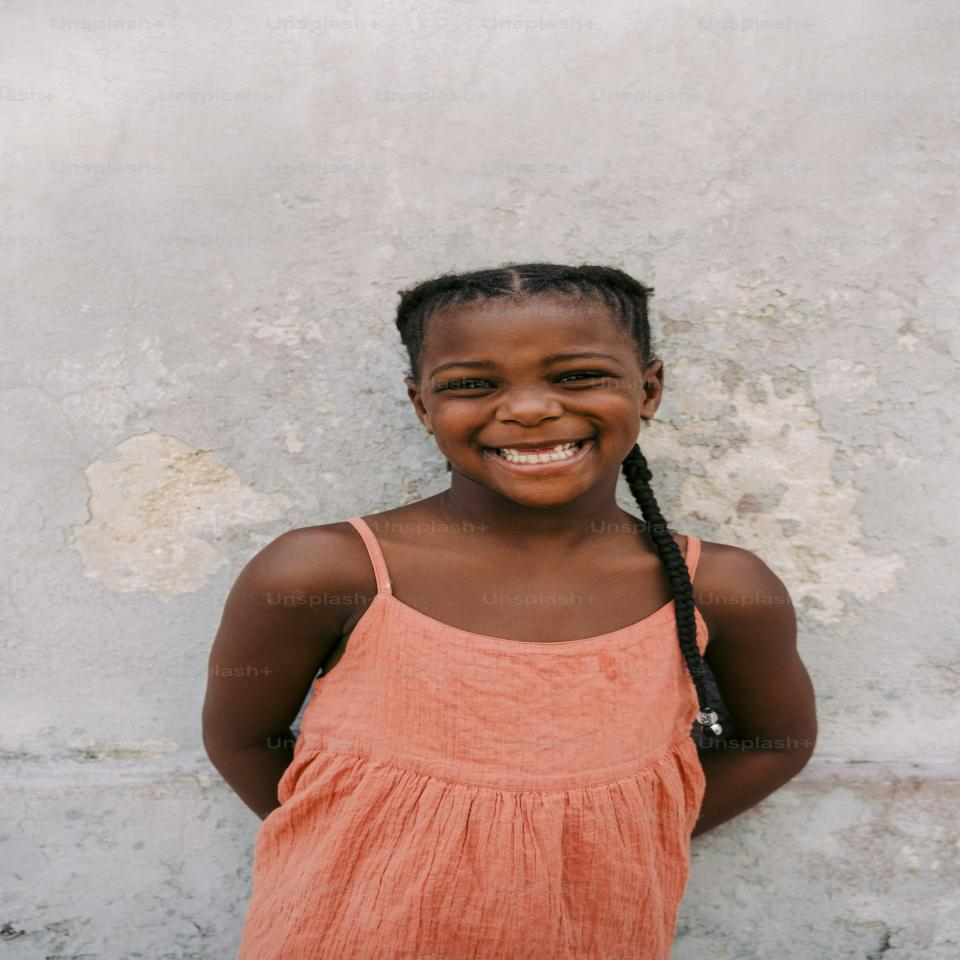Happiness: (419, 298, 672, 509)
